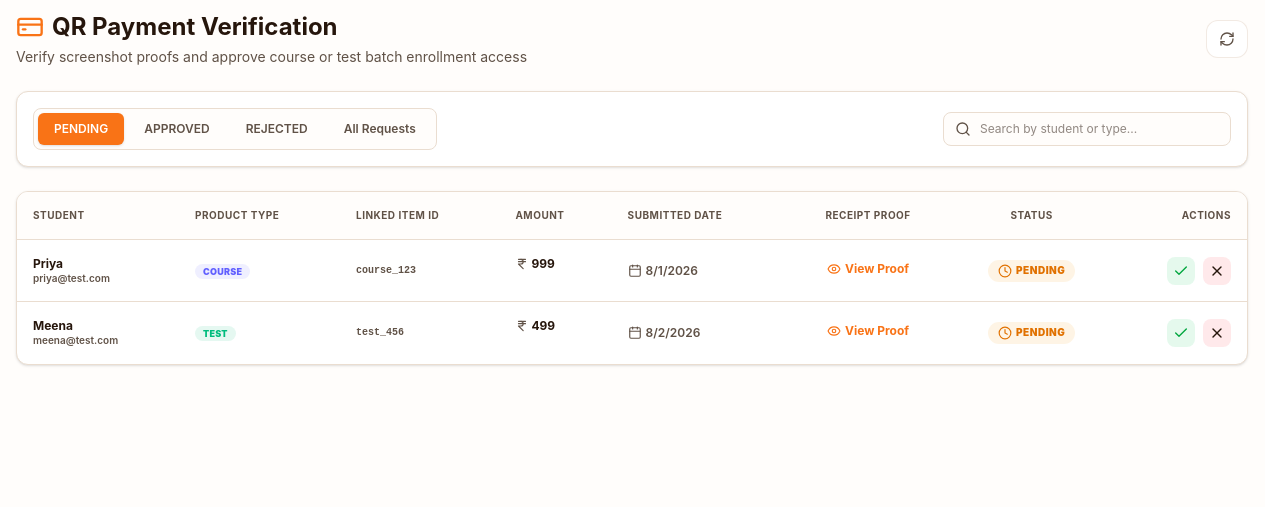
Test case: PaymentRequestsPage › filters requests by search term
Click the button "All Requests" at (380,129), box [328, 113, 432, 145]
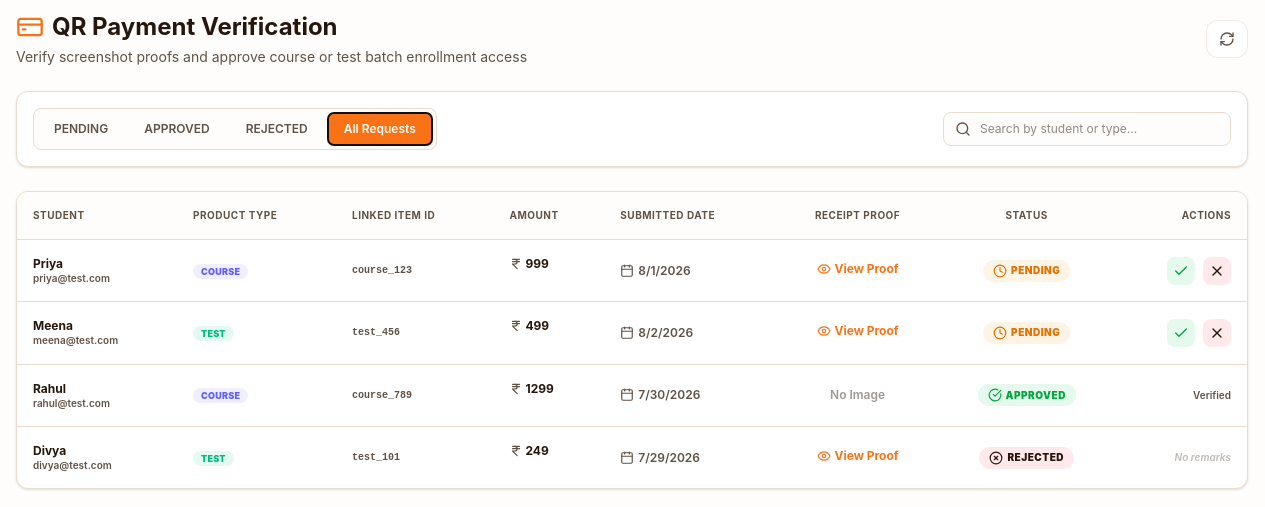
Type "meena" into the field with placeholder "Search by student or type..." at (1087,129), box [943, 112, 1231, 146]
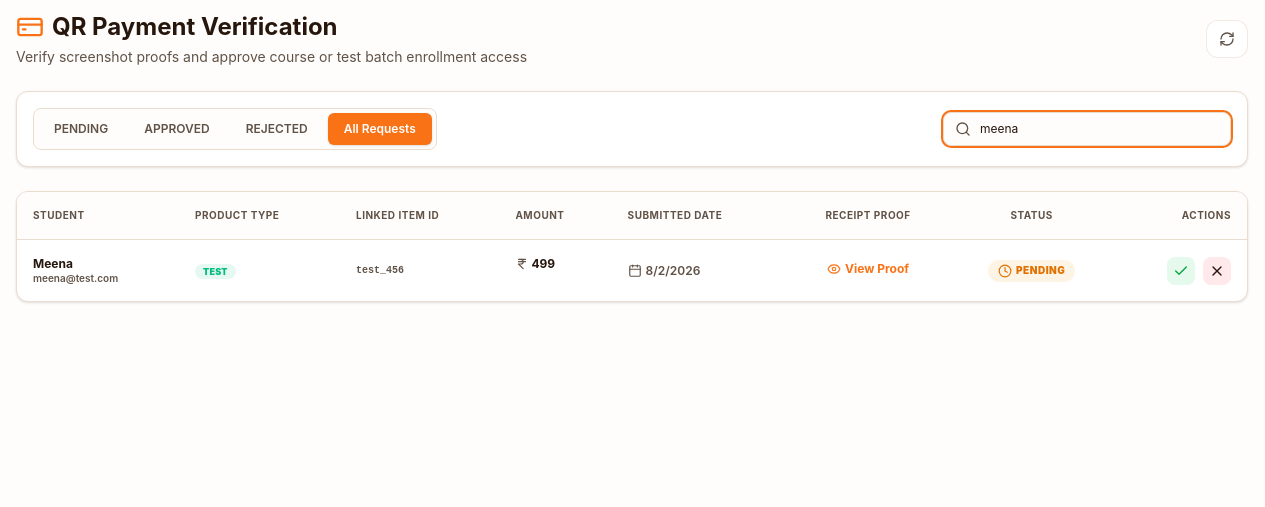
expect the text "Meena" is shown: met, box [33, 256, 73, 271]
expect the text "Priya" is gone: met
